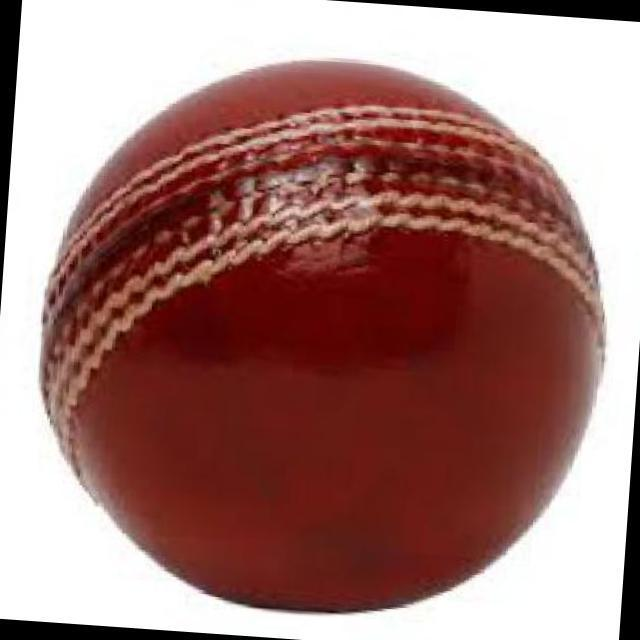-: (14, 65, 615, 640)
